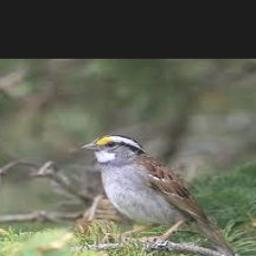Sparrow: (81, 134, 237, 256)
